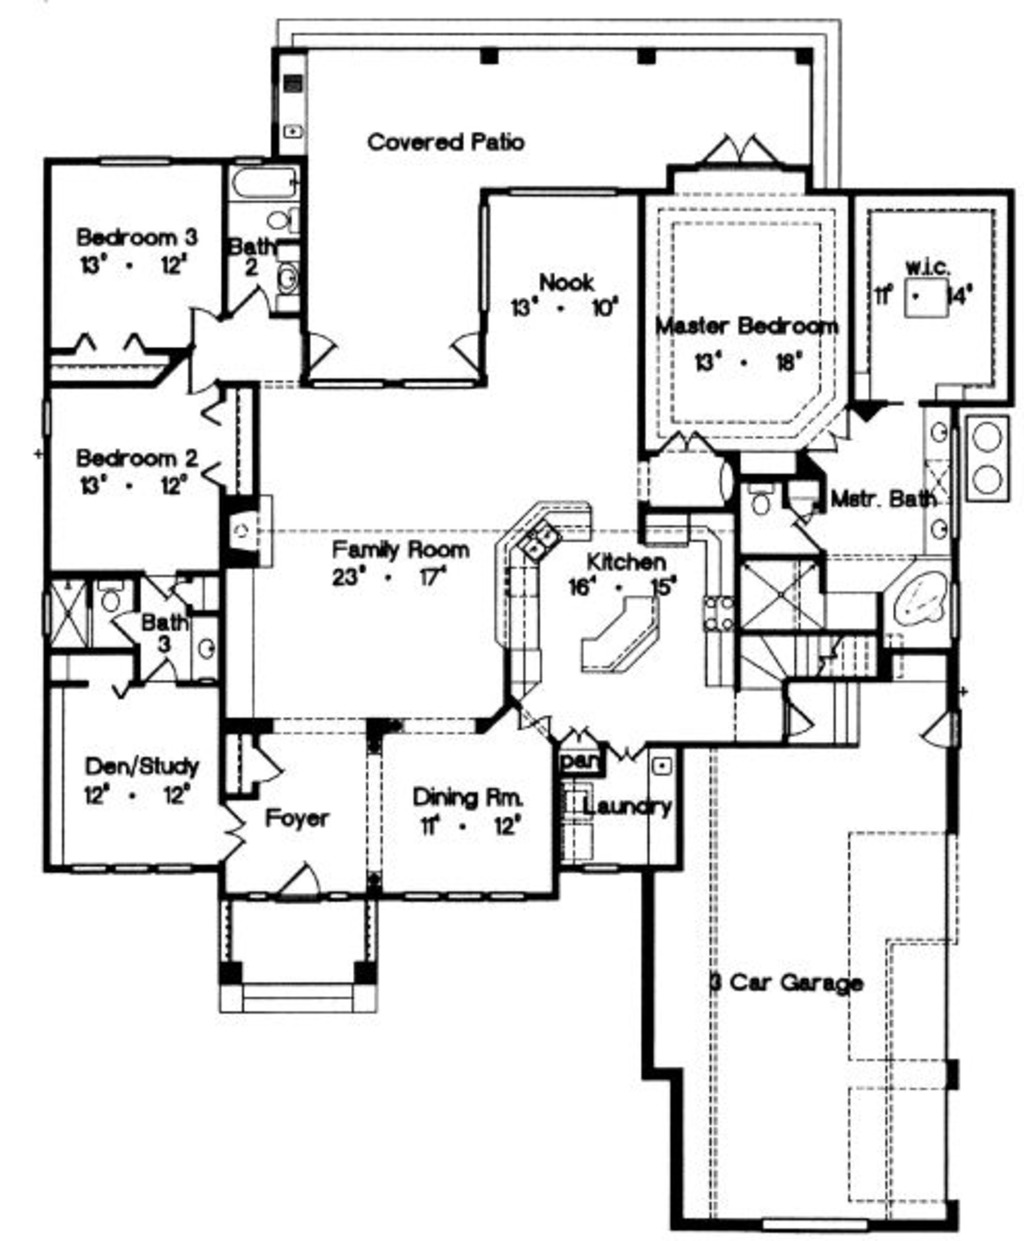door: (899, 699, 1005, 766), (691, 120, 785, 170), (795, 403, 864, 462), (639, 410, 730, 455), (264, 853, 334, 910), (234, 734, 291, 797), (172, 295, 230, 351), (289, 326, 346, 382), (443, 326, 505, 378), (120, 647, 181, 695), (224, 274, 278, 326), (778, 695, 818, 741), (145, 560, 185, 605), (109, 610, 151, 647)
large_sink: (89, 574, 135, 616), (745, 480, 782, 530), (259, 201, 307, 237)
small_sink: (924, 389, 959, 566), (178, 616, 224, 685)
stairs: (730, 632, 866, 757)
tub: (222, 162, 310, 203)
twin_sink: (507, 516, 587, 585)
window: (68, 845, 199, 882), (401, 882, 526, 910), (755, 1212, 889, 1237)
